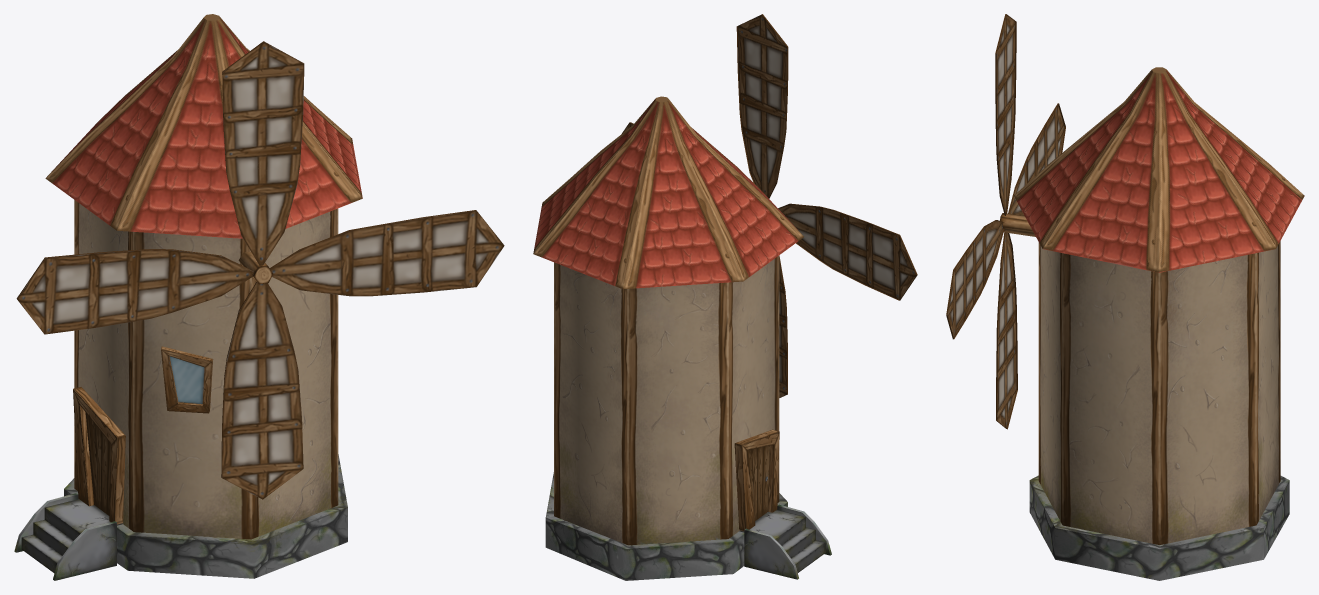
Rendered from windmill.glb.
3 renders of one model, left to right at view 1: azimuth 30°, elevation 25°; view 2: azimuth 150°, elevation 25°; view 3: azimuth 270°, elevation 25°, orthographic. The views are drawn at different scales.
Visible parts, largest first — view 1: wind_mill_Material #2_0; view 2: wind_mill_Material #2_0; view 3: wind_mill_Material #2_0.
Boxes of the visible parts, left/top/right/bottom form: wind_mill_Material #2_0: left=14, top=14, right=504, bottom=580; wind_mill_Material #2_0: left=533, top=14, right=917, bottom=580; wind_mill_Material #2_0: left=946, top=14, right=1304, bottom=580.
Size of the model in its own units: 110 by 137 by 88.99.
1 material, 1 textured.
